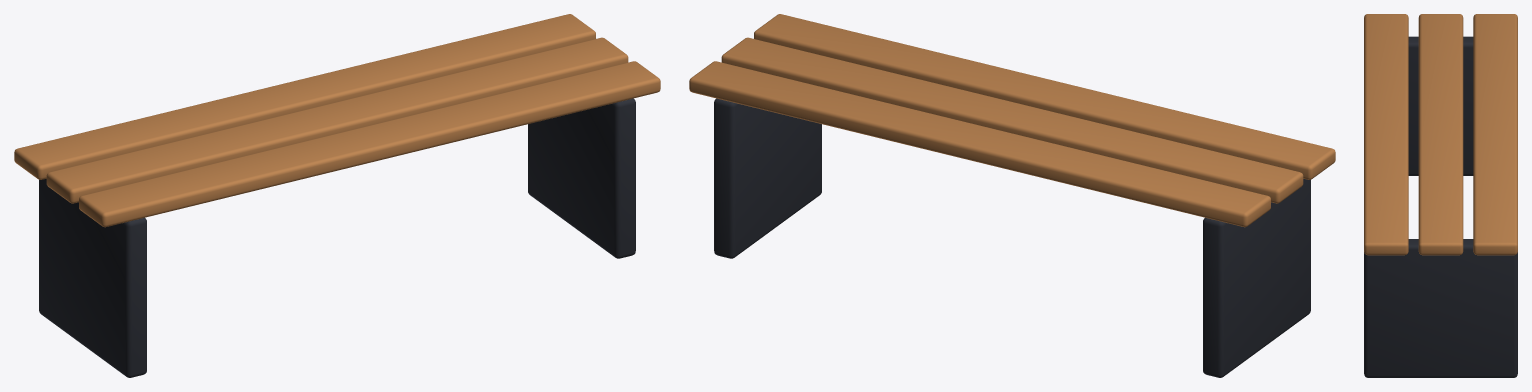
File: banco.glb
3 renders of one model, left to right at view 1: azimuth 30°, elevation 25°; view 2: azimuth 150°, elevation 25°; view 3: azimuth 270°, elevation 25°, orthographic. The views are drawn at different scales.
Visible parts, largest first — view 1: Cube, Cube.001, Cube.002, Cube.003, Cube.004; view 2: Cube.002, Cube.001, Cube, Cube.003, Cube.004; view 3: Cube.004, Cube.001, Cube, Cube.002, Cube.003.
Part boxes in pixels (bbox=[...]): Cube: bbox=[79, 61, 660, 227]; Cube.001: bbox=[46, 37, 628, 203]; Cube.002: bbox=[14, 14, 595, 179]; Cube.003: bbox=[39, 179, 146, 377]; Cube.004: bbox=[528, 98, 635, 258]; Cube.002: bbox=[689, 61, 1270, 227]; Cube.001: bbox=[721, 37, 1303, 203]; Cube: bbox=[754, 14, 1335, 179]; Cube.003: bbox=[1203, 179, 1310, 377]; Cube.004: bbox=[714, 98, 821, 258]; Cube.004: bbox=[1364, 239, 1517, 377]; Cube.001: bbox=[1418, 14, 1463, 255]; Cube: bbox=[1364, 14, 1408, 255]; Cube.002: bbox=[1473, 14, 1517, 255]; Cube.003: bbox=[1408, 36, 1473, 175].
Bounding box in the file's own units: 1.6 × 0.47 × 0.45.
